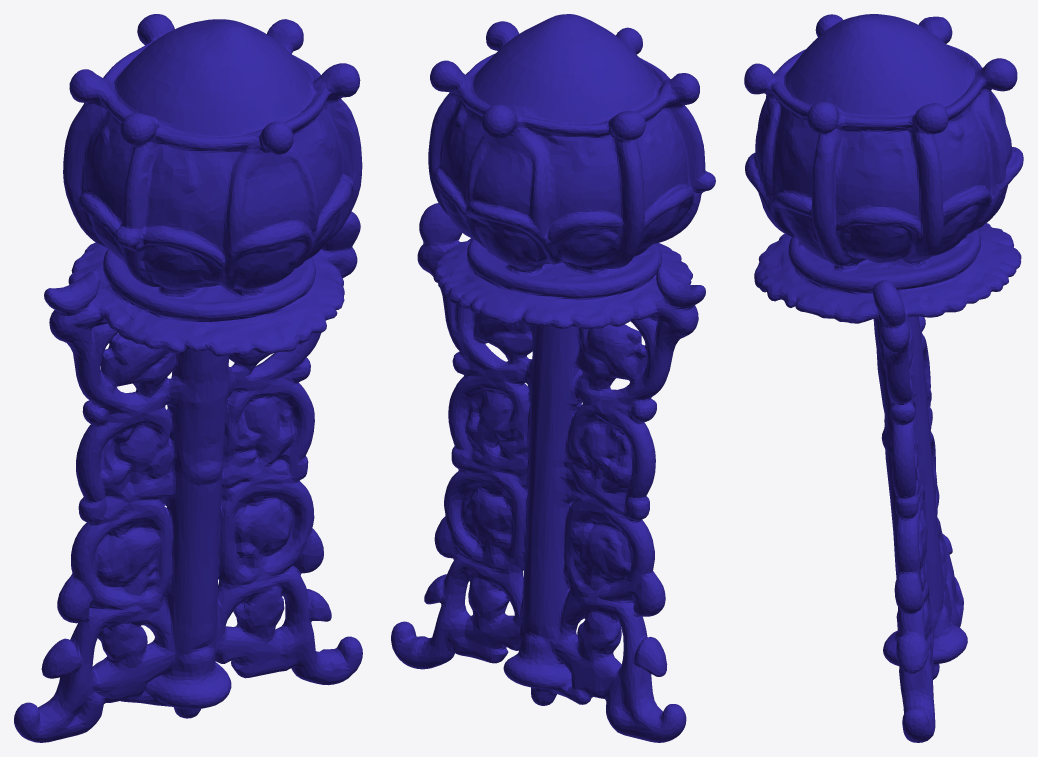
Rendered from iter_20.glb.
3 renders of one model, left to right at view 1: azimuth 30°, elevation 25°; view 2: azimuth 150°, elevation 25°; view 3: azimuth 270°, elevation 25°, orthographic. The views are drawn at different scales.
Parts seen in each view (by area): view 1: textured_mesh; view 2: textured_mesh; view 3: textured_mesh.
Boxes of the visible parts, x1,y1,x2,y2 form: textured_mesh: (14, 14, 362, 742); textured_mesh: (391, 14, 715, 742); textured_mesh: (744, 14, 1023, 742).
Size of the model in its own units: 0.9607 by 2 by 0.7614.
